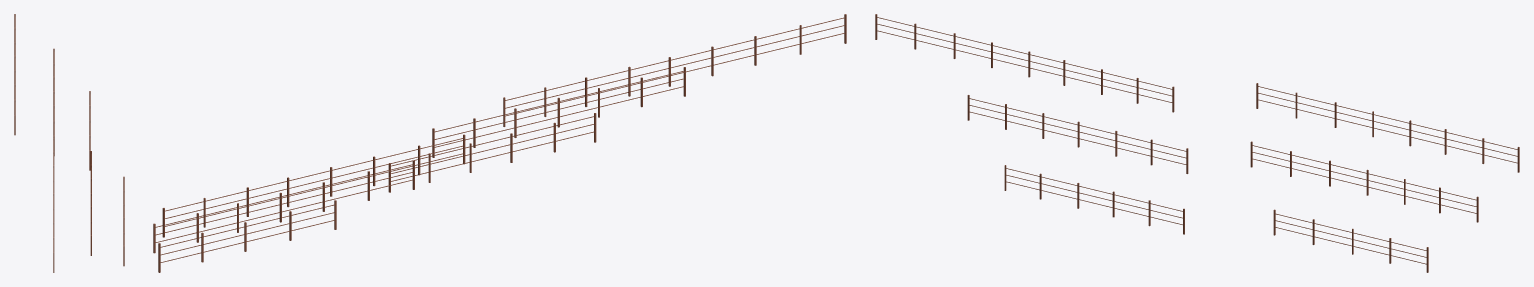
The picture shows the model from 3 angles, left to right: view 1: azimuth 30°, elevation 25°; view 2: azimuth 150°, elevation 25°; view 3: azimuth 270°, elevation 25°; orthographic projection. The views are drawn at different scales.
Parts seen in each view (by area): view 1: terracepillar; view 2: terracepillar; view 3: terracepillar.
Boxes of the visible parts, left/top/right/bottom form: terracepillar: left=14, top=14, right=124, bottom=272; terracepillar: left=153, top=14, right=846, bottom=272; terracepillar: left=875, top=14, right=1519, bottom=272.
Bounding box in the file's own units: 2.49 × 0.7462 × 4.3.
Materials: 1 (1 with a texture image).
